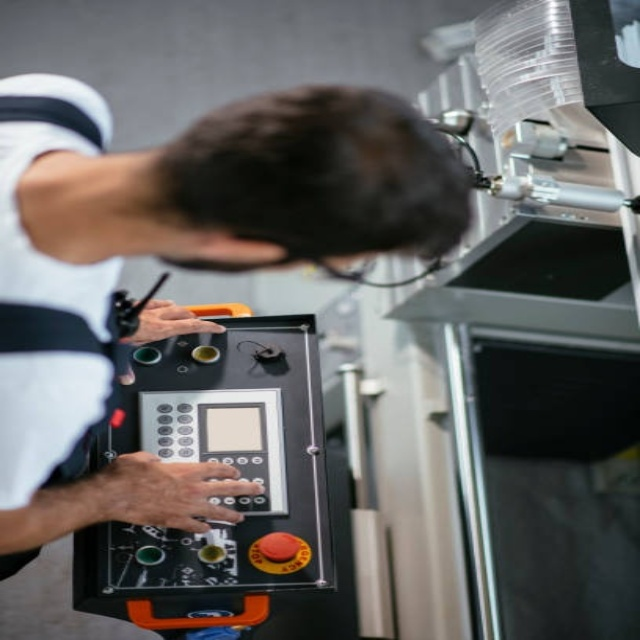Sin_guantes: (94, 452, 265, 532), (119, 299, 228, 349)
